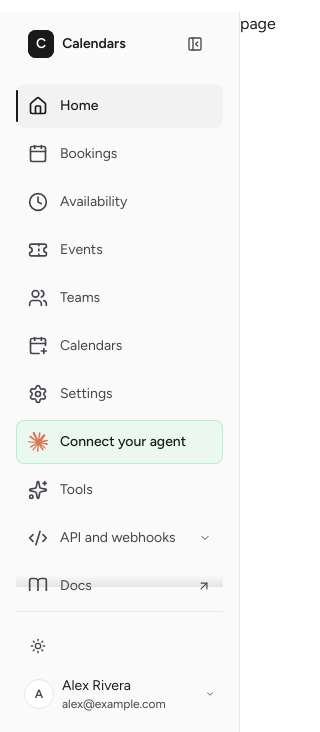
Test case: AdminShell: the dForms rail look › ends with the person: name and email on one button whose menu holds the public page and Sign out
What coordinates should you click on to do the following:
click the button with test id "profile-menu-trigger"
I would click on:
 (120, 694)
Its box is x1=16 y1=672 x2=223 y2=716.
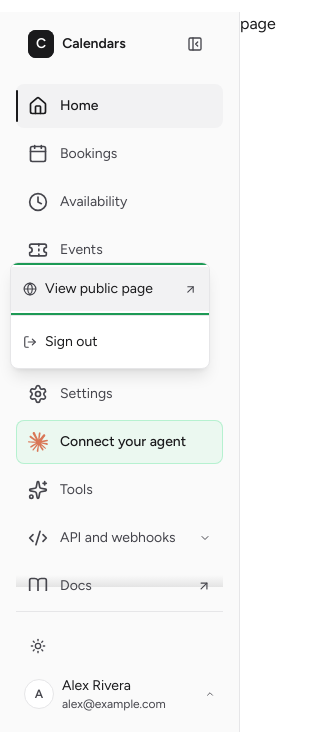
Check: the menu item with test id "profile-sign-out" reads "Sign out", box x1=11 y1=320 x2=209 y2=364
